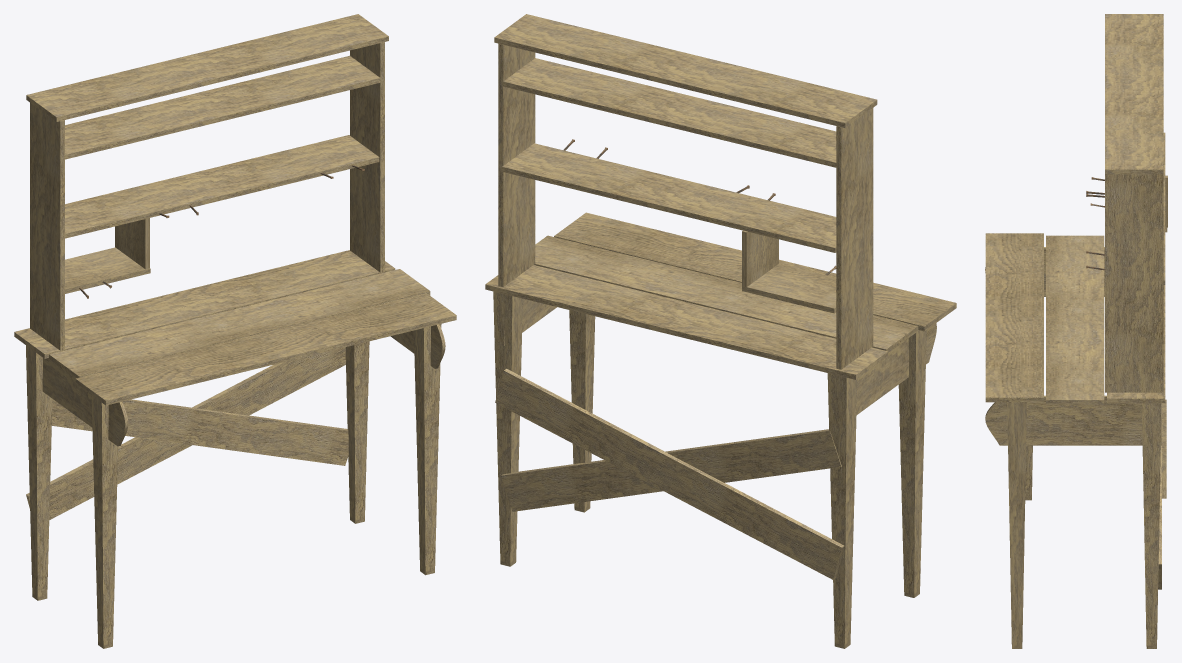
Rendered from WorkBench_01.dae.
3 renders of one model, left to right at view 1: azimuth 30°, elevation 25°; view 2: azimuth 150°, elevation 25°; view 3: azimuth 270°, elevation 25°, orthographic. The views are drawn at different scales.
Parts seen in each view (by area): view 1: WorkBenchOne300; view 2: WorkBenchOne300; view 3: WorkBenchOne300.
Boxes of the visible parts, x1,y1,x2,y2 form: WorkBenchOne300: [14, 14, 456, 648]; WorkBenchOne300: [485, 14, 956, 648]; WorkBenchOne300: [985, 14, 1167, 648].
Size of what is drawn, in the model's own units: 195 by 90.57 by 263.
